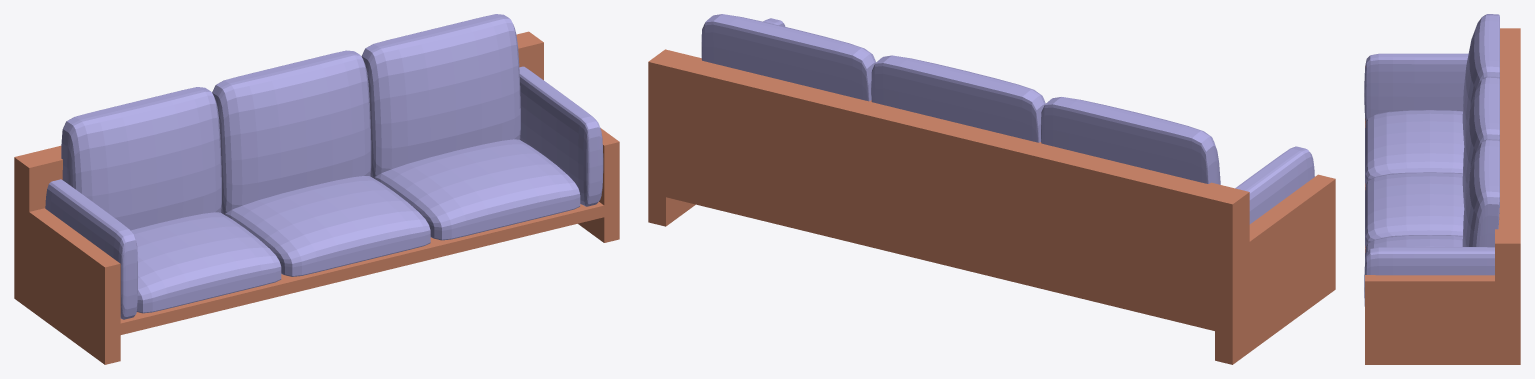
File: sofa.glb
3 views of the same model, side by side, from view 1: azimuth 30°, elevation 25°; view 2: azimuth 150°, elevation 25°; view 3: azimuth 270°, elevation 25° (orthographic). The views are drawn at different scales.
Visible parts, largest first — view 1: Cube.003; view 2: Cube.003; view 3: Cube.003.
Boxes of the visible parts, <box> form: Cube.003: <box>14,14,619,364</box>; Cube.003: <box>648,14,1335,364</box>; Cube.003: <box>1364,14,1520,364</box>.
Bounding box in the file's own units: 7.84 × 2.63 × 2.4.
